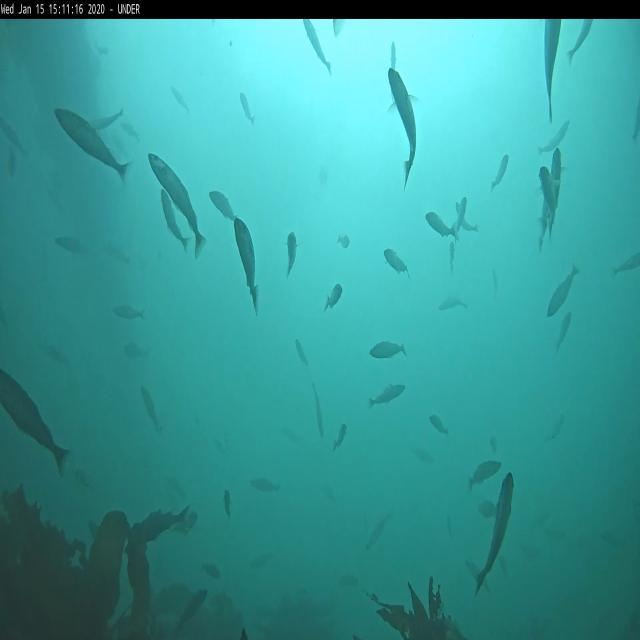fish: (1, 366, 72, 476), (148, 151, 206, 259), (55, 105, 130, 182), (474, 470, 513, 594), (388, 66, 417, 188), (232, 215, 260, 315), (538, 146, 563, 255), (542, 20, 562, 116), (302, 20, 334, 74), (364, 504, 397, 554), (176, 586, 210, 634), (548, 264, 578, 316), (538, 165, 558, 238), (566, 20, 594, 66), (368, 381, 404, 411), (425, 208, 457, 240), (140, 386, 162, 432), (538, 121, 570, 152), (469, 459, 502, 488), (554, 307, 574, 353), (310, 381, 326, 438), (210, 186, 234, 223), (612, 250, 638, 282), (456, 200, 480, 234), (384, 247, 410, 278), (490, 153, 509, 192), (54, 232, 86, 255), (370, 339, 406, 359), (454, 196, 469, 240), (170, 82, 190, 115), (240, 90, 256, 128), (252, 477, 282, 497), (112, 304, 146, 320), (438, 296, 468, 314), (428, 412, 449, 437), (200, 560, 222, 582), (325, 284, 342, 310), (286, 232, 296, 276), (333, 423, 347, 452), (295, 337, 308, 365), (335, 230, 350, 250), (223, 489, 233, 518), (449, 242, 457, 274)
